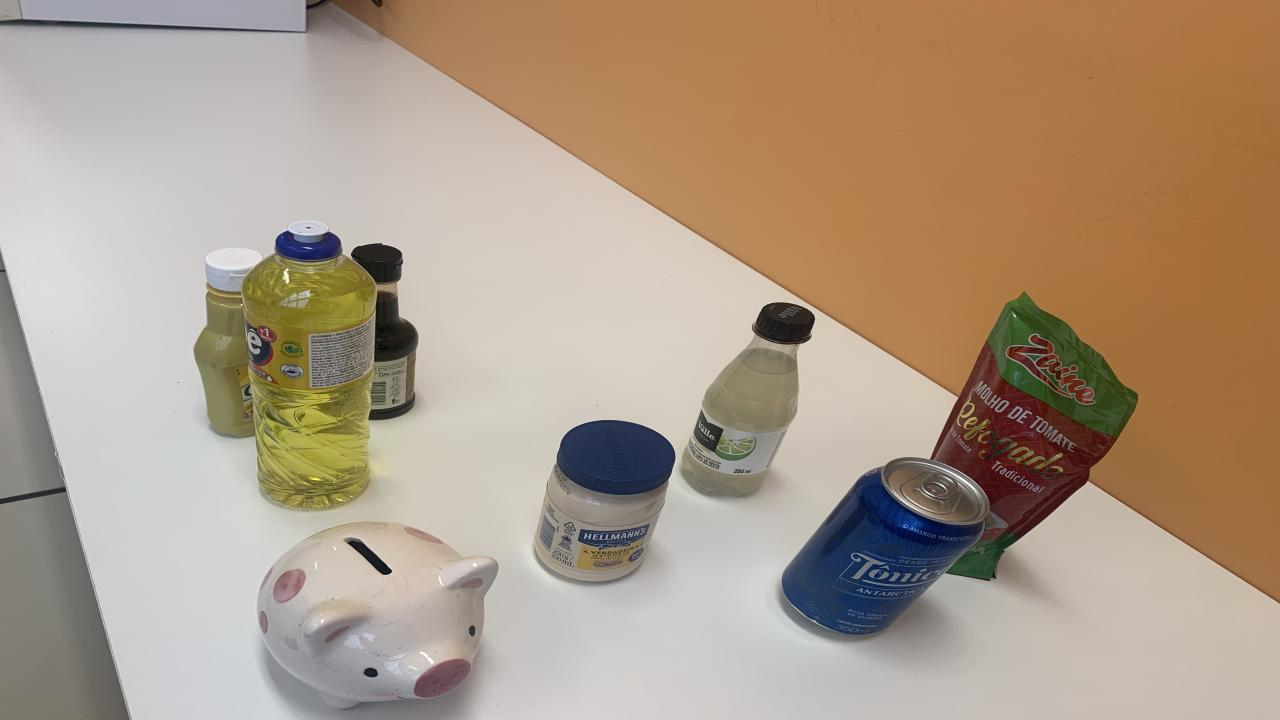Detergent-Cleanup_Items: (242, 219, 375, 508)
English_Sauce-Pantry_Items: (352, 244, 418, 420)
Mayonnaise-Pantry_Items: (535, 420, 675, 581)
Mustard-Pantry_Items: (195, 248, 262, 437)
Pig_Safe-Miscellaneous: (258, 521, 498, 709)
Soda-Drinks: (682, 302, 815, 495)
Tomato_Sauce-Pantry_Items: (930, 294, 1138, 579)
Tonic-Drinks: (782, 458, 990, 636)
